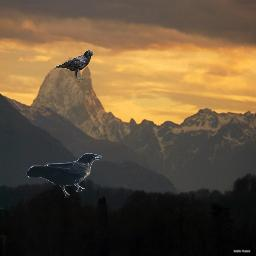Crow: (26, 153, 102, 198), (52, 50, 93, 82)
